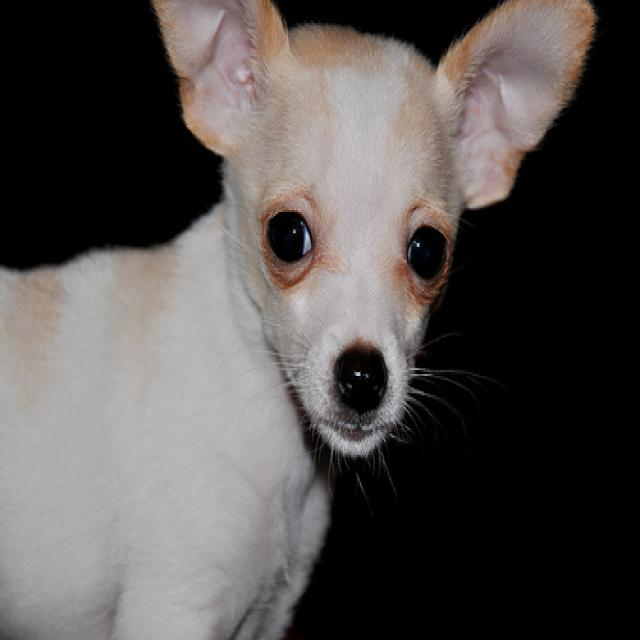dog-chihuahua: (1, 2, 603, 636)
